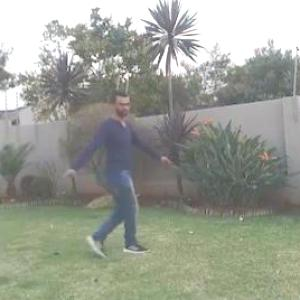land: (51, 75, 177, 281)
